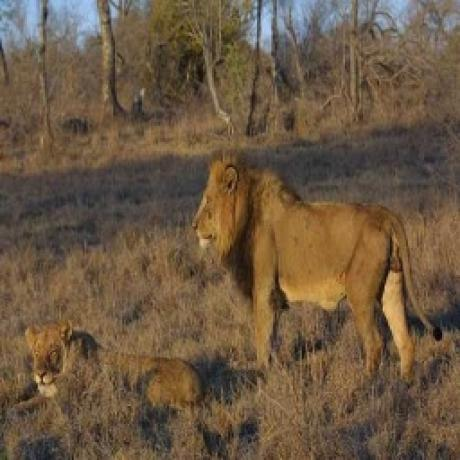Lion: (190, 152, 442, 376), (20, 318, 208, 410)
